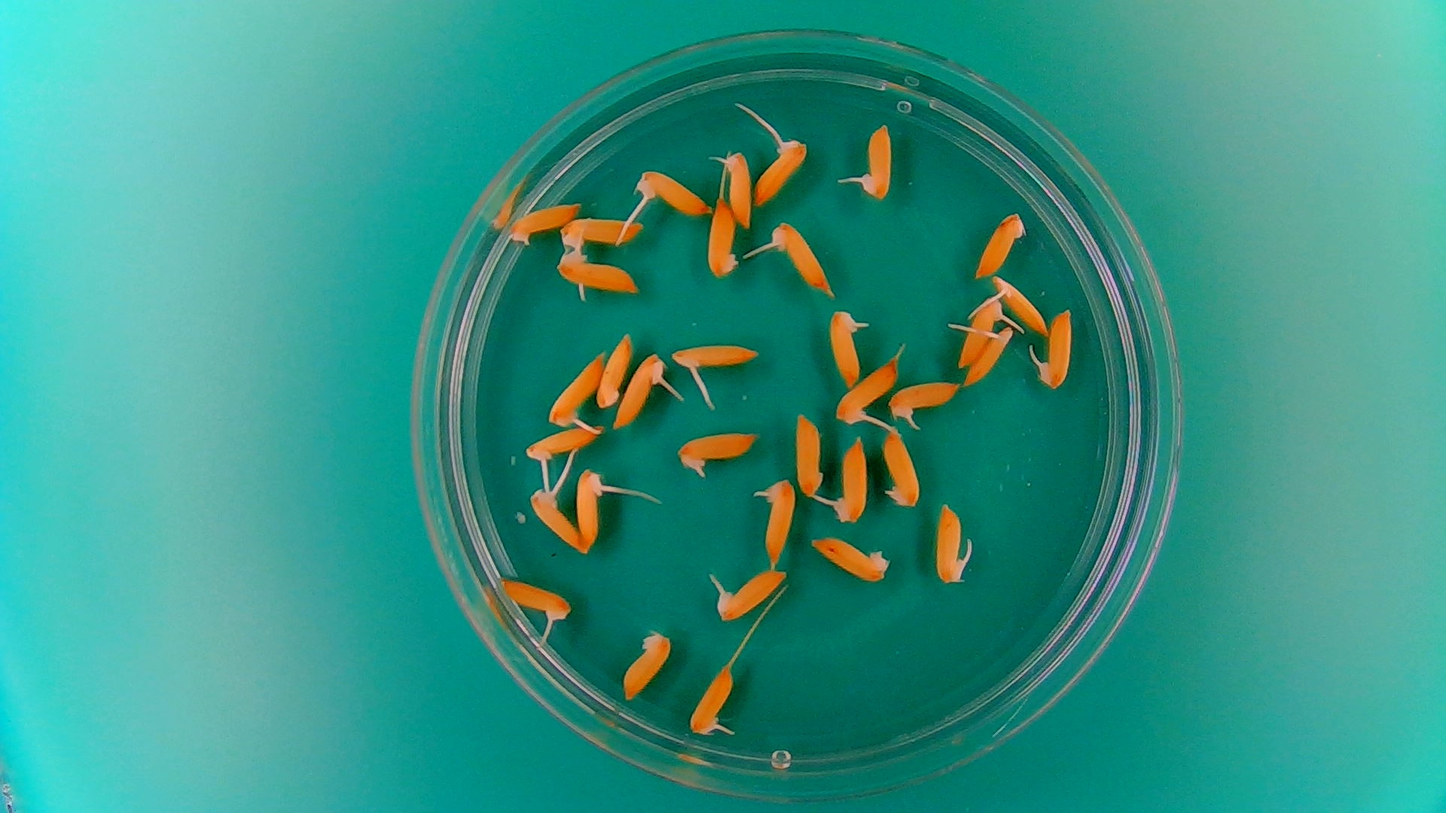no: (807, 534, 891, 585), (619, 627, 674, 703), (972, 209, 1028, 281), (505, 199, 581, 246), (705, 193, 743, 282), (595, 329, 632, 409), (792, 410, 825, 498)
yes: (667, 337, 764, 410), (764, 217, 836, 296), (834, 353, 902, 428), (546, 348, 606, 429), (709, 565, 790, 623), (673, 426, 761, 478), (749, 473, 798, 565), (615, 352, 672, 431), (495, 575, 572, 632), (630, 166, 713, 218), (752, 133, 810, 207), (527, 478, 584, 553), (986, 276, 1056, 335), (1029, 306, 1076, 391), (687, 659, 737, 738), (554, 249, 641, 294), (713, 145, 758, 230), (877, 427, 923, 510), (828, 434, 869, 525), (827, 306, 870, 391), (932, 501, 975, 586), (956, 293, 1002, 372), (962, 323, 1016, 390), (515, 422, 603, 463), (887, 377, 962, 424), (557, 212, 647, 247), (574, 467, 608, 553), (859, 126, 894, 201)
